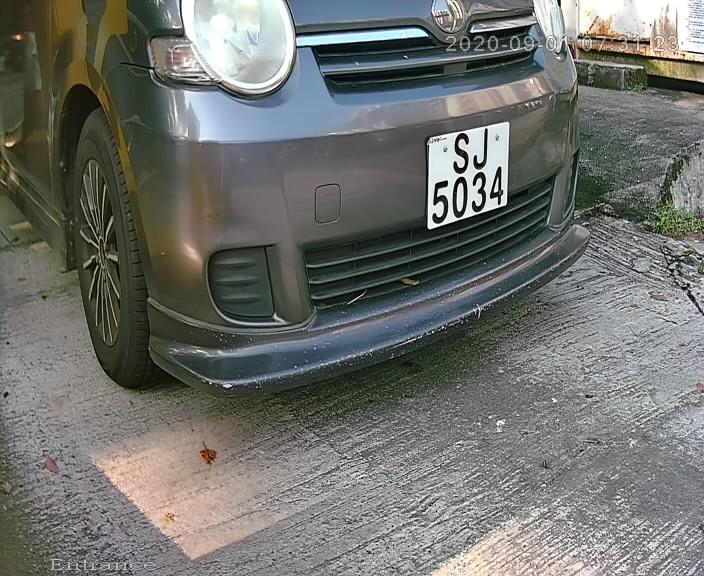Car: (41, 3, 626, 438)
License Plate: (415, 109, 522, 242)
